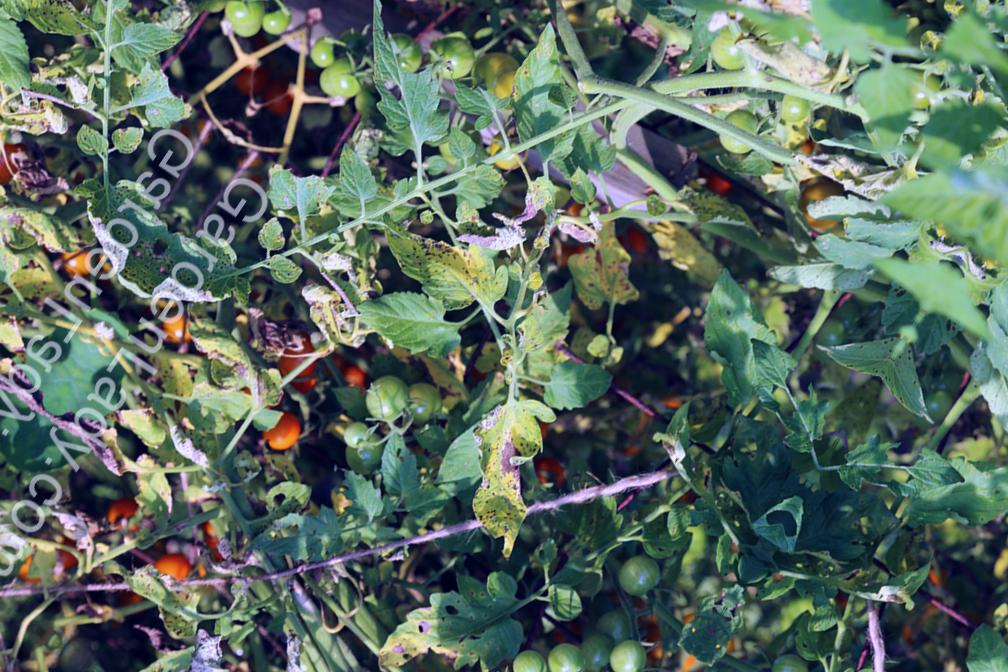Tomato Early blight leaf: (420, 376, 594, 565), (376, 542, 546, 672), (370, 204, 516, 333), (666, 273, 803, 410), (476, 27, 593, 162), (556, 222, 657, 325), (507, 276, 592, 373)
Tomato leaf: (348, 264, 472, 380)
